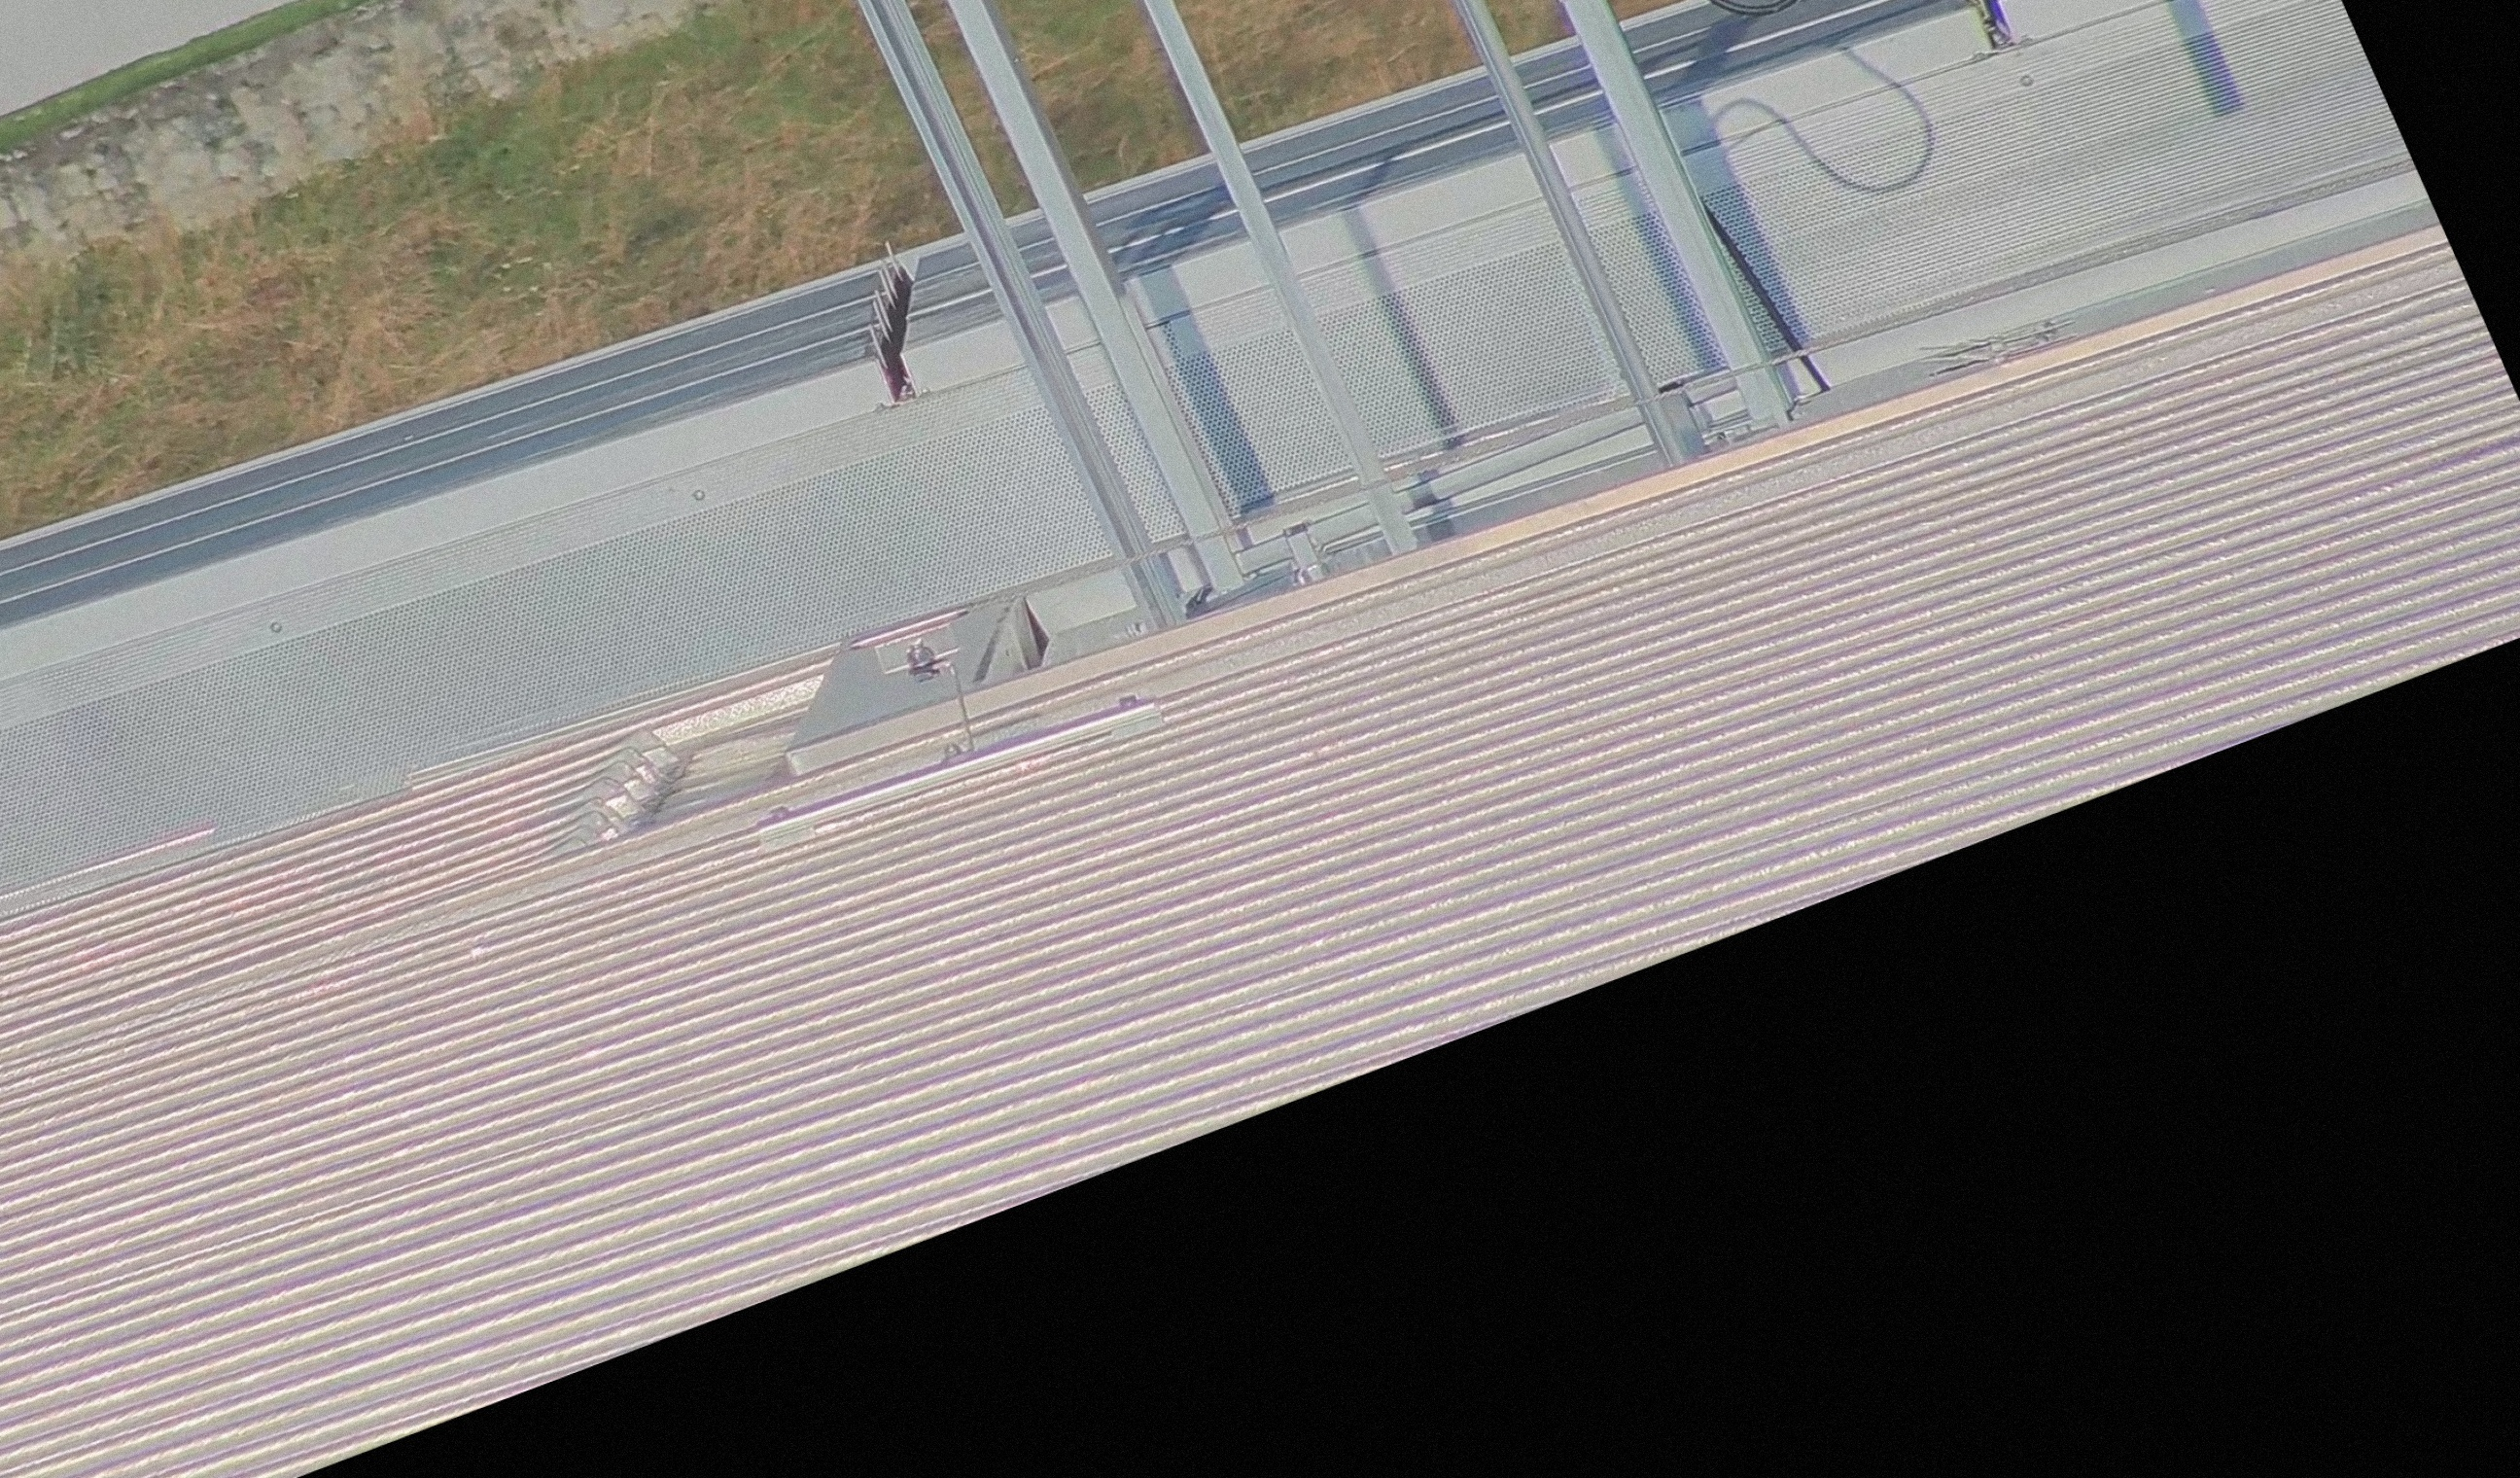Other: (809, 222, 987, 413)
